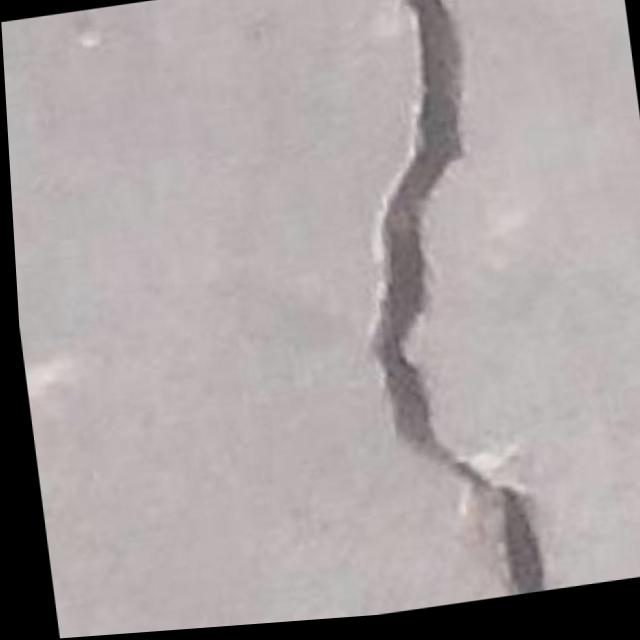Crack: (286, 0, 584, 623)
